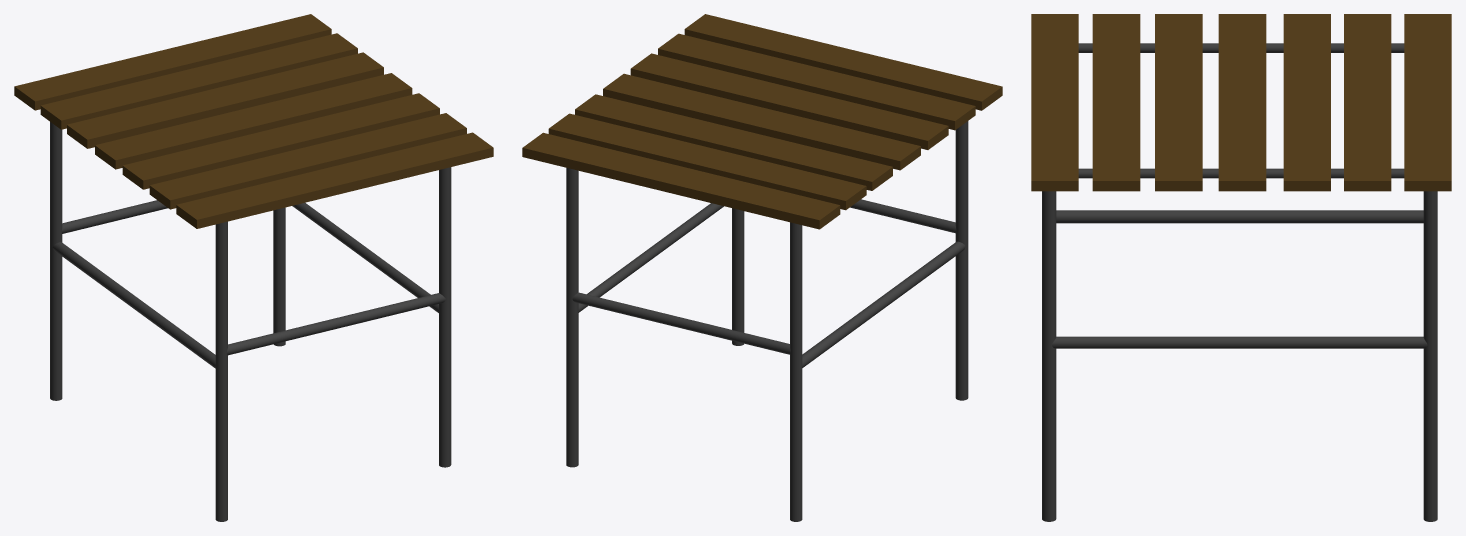
File: doska farebna.fbx
The picture shows the model from 3 angles, left to right: view 1: azimuth 30°, elevation 25°; view 2: azimuth 150°, elevation 25°; view 3: azimuth 270°, elevation 25°; orthographic projection. The views are drawn at different scales.
Visible parts, largest first — view 1: Plane.001, Valec.020; view 2: Plane.001, Valec.020; view 3: Plane.001, Valec.020.
Part boxes in pixels (x1,y1,x2,y2): Plane.001: [14, 14, 493, 228]; Valec.020: [50, 122, 451, 521]; Plane.001: [522, 14, 1002, 229]; Valec.020: [566, 121, 968, 521]; Plane.001: [1031, 14, 1451, 191]; Valec.020: [1042, 43, 1437, 521].
Bounding box in the file's own units: 286 × 288 × 305.
